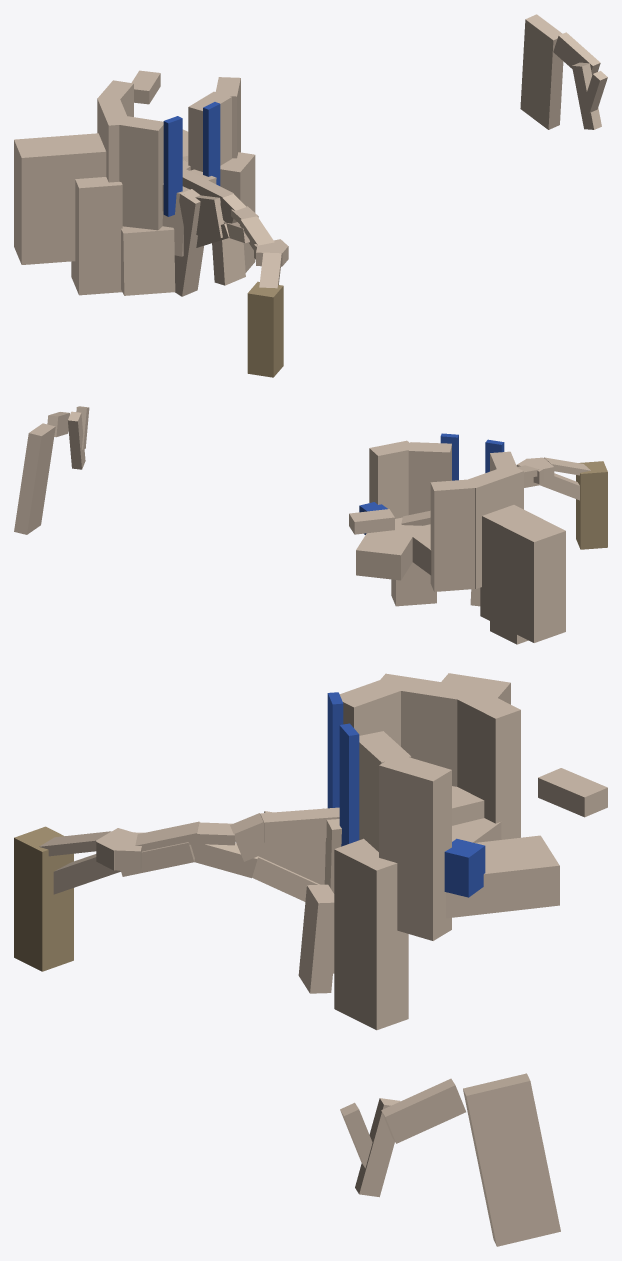
File: p_MoistPass.fbx
The picture shows the model from 3 angles, top to bottom: view 1: azimuth 30°, elevation 25°; view 2: azimuth 150°, elevation 25°; view 3: azimuth 270°, elevation 25°; orthographic projection. The views are drawn at different scales.
Parts seen in each view (by area): view 1: Wall_Smell__118_, Wall_Smell__117_, Wall_Smell__108_, Wall_Smell__90_, Wall_Smell__97_, Wall_Smell__110_, Support, Wall_Smell__103_, Wall_Smell__94_, Wall_Smell__119_, Wall_Smell__96_, Wall_Smell__100_ (+12 smaller); view 2: Wall_Smell__118_, Wall_Smell__102_, Wall_Smell__90_, Wall_Smell__98_, Wall_Smell__107_, Wall_Smell__110_, Wall_Smell__96_, Wall_Smell__103_, Wall_Smell__119_, NextEntry, Wall_Smell__109_, Wall_Smell__122_ (+8 smaller); view 3: Wall_Smell__119_, Wall_Smell__90_, Wall_Smell__98_, Wall_Smell__102_, Wall_Smell__110_, Wall_Smell__107_, Wall_Smell__96_, Wall_Smell__100_, Wall_Smell__123_, Wall_Smell__103_, Wall_Smell__108_, Wall_Smell__93_ (+20 smaller).
Part boxes in pixels (<box>): Wall_Smell__118_: <box>14,133,106,264</box>; Wall_Smell__117_: <box>71,177,122,295</box>; Wall_Smell__108_: <box>119,115,163,230</box>; Wall_Smell__90_: <box>520,14,563,129</box>; Wall_Smell__97_: <box>121,226,175,295</box>; Wall_Smell__110_: <box>247,281,283,377</box>; Support: <box>174,189,203,296</box>; Wall_Smell__103_: <box>188,91,231,171</box>; Wall_Smell__94_: <box>163,116,182,216</box>; Wall_Smell__119_: <box>220,152,255,272</box>; Wall_Smell__96_: <box>97,96,130,182</box>; Wall_Smell__100_: <box>212,238,245,285</box>; Wall_Smell__118_: <box>480,505,565,642</box>; Wall_Smell__102_: <box>430,479,475,591</box>; Wall_Smell__90_: <box>14,423,55,534</box>; Wall_Smell__98_: <box>369,440,415,518</box>; Wall_Smell__107_: <box>356,520,419,580</box>; Wall_Smell__110_: <box>576,461,607,549</box>; Wall_Smell__96_: <box>465,464,523,588</box>; Wall_Smell__103_: <box>408,442,451,514</box>; Wall_Smell__119_: <box>391,562,436,606</box>; NextEntry: <box>349,509,394,534</box>; Wall_Smell__109_: <box>410,524,431,575</box>; Wall_Smell__122_: <box>68,411,85,469</box>; Wall_Smell__119_: <box>334,838,408,1030</box>; Wall_Smell__90_: <box>463,1073,560,1246</box>; Wall_Smell__98_: <box>379,754,451,940</box>; Wall_Smell__102_: <box>454,688,520,839</box>; Wall_Smell__110_: <box>14,826,73,971</box>; Wall_Smell__107_: <box>446,835,559,918</box>; Wall_Smell__96_: <box>374,673,478,786</box>; Wall_Smell__100_: <box>298,884,334,993</box>; Wall_Smell__123_: <box>381,1078,465,1143</box>; Wall_Smell__103_: <box>359,731,411,851</box>; Wall_Smell__108_: <box>339,680,403,746</box>; Wall_Smell__93_: <box>339,723,359,846</box>.
Size of the model in its own units: 8720 by 2650 by 5390.
